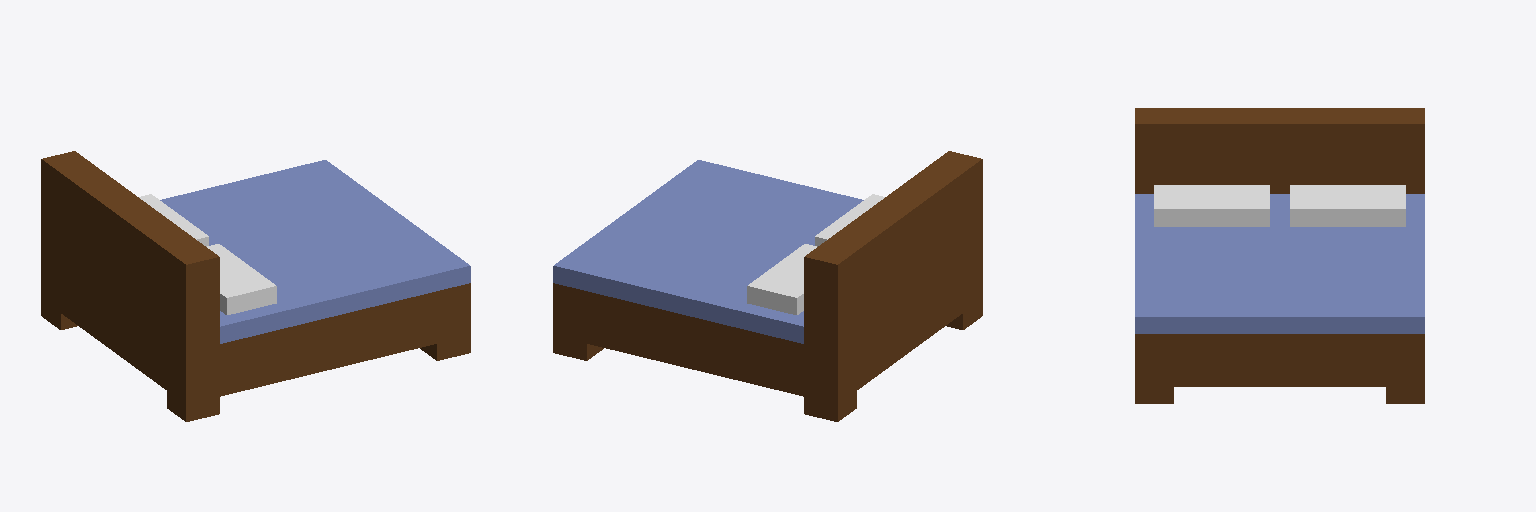
3 views of the same model, side by side, from view 1: azimuth 30°, elevation 25°; view 2: azimuth 150°, elevation 25°; view 3: azimuth 270°, elevation 25° (orthographic).
Visible parts, largest first — view 1: Model; view 2: Model; view 3: Model.
Part boxes in pixels (bbox=[...]): Model: bbox=[41, 151, 470, 421]; Model: bbox=[553, 151, 982, 421]; Model: bbox=[1135, 108, 1424, 403].
Size of the model in its own units: 32 by 16.94 by 28.24.
1 materials, 1 textured.